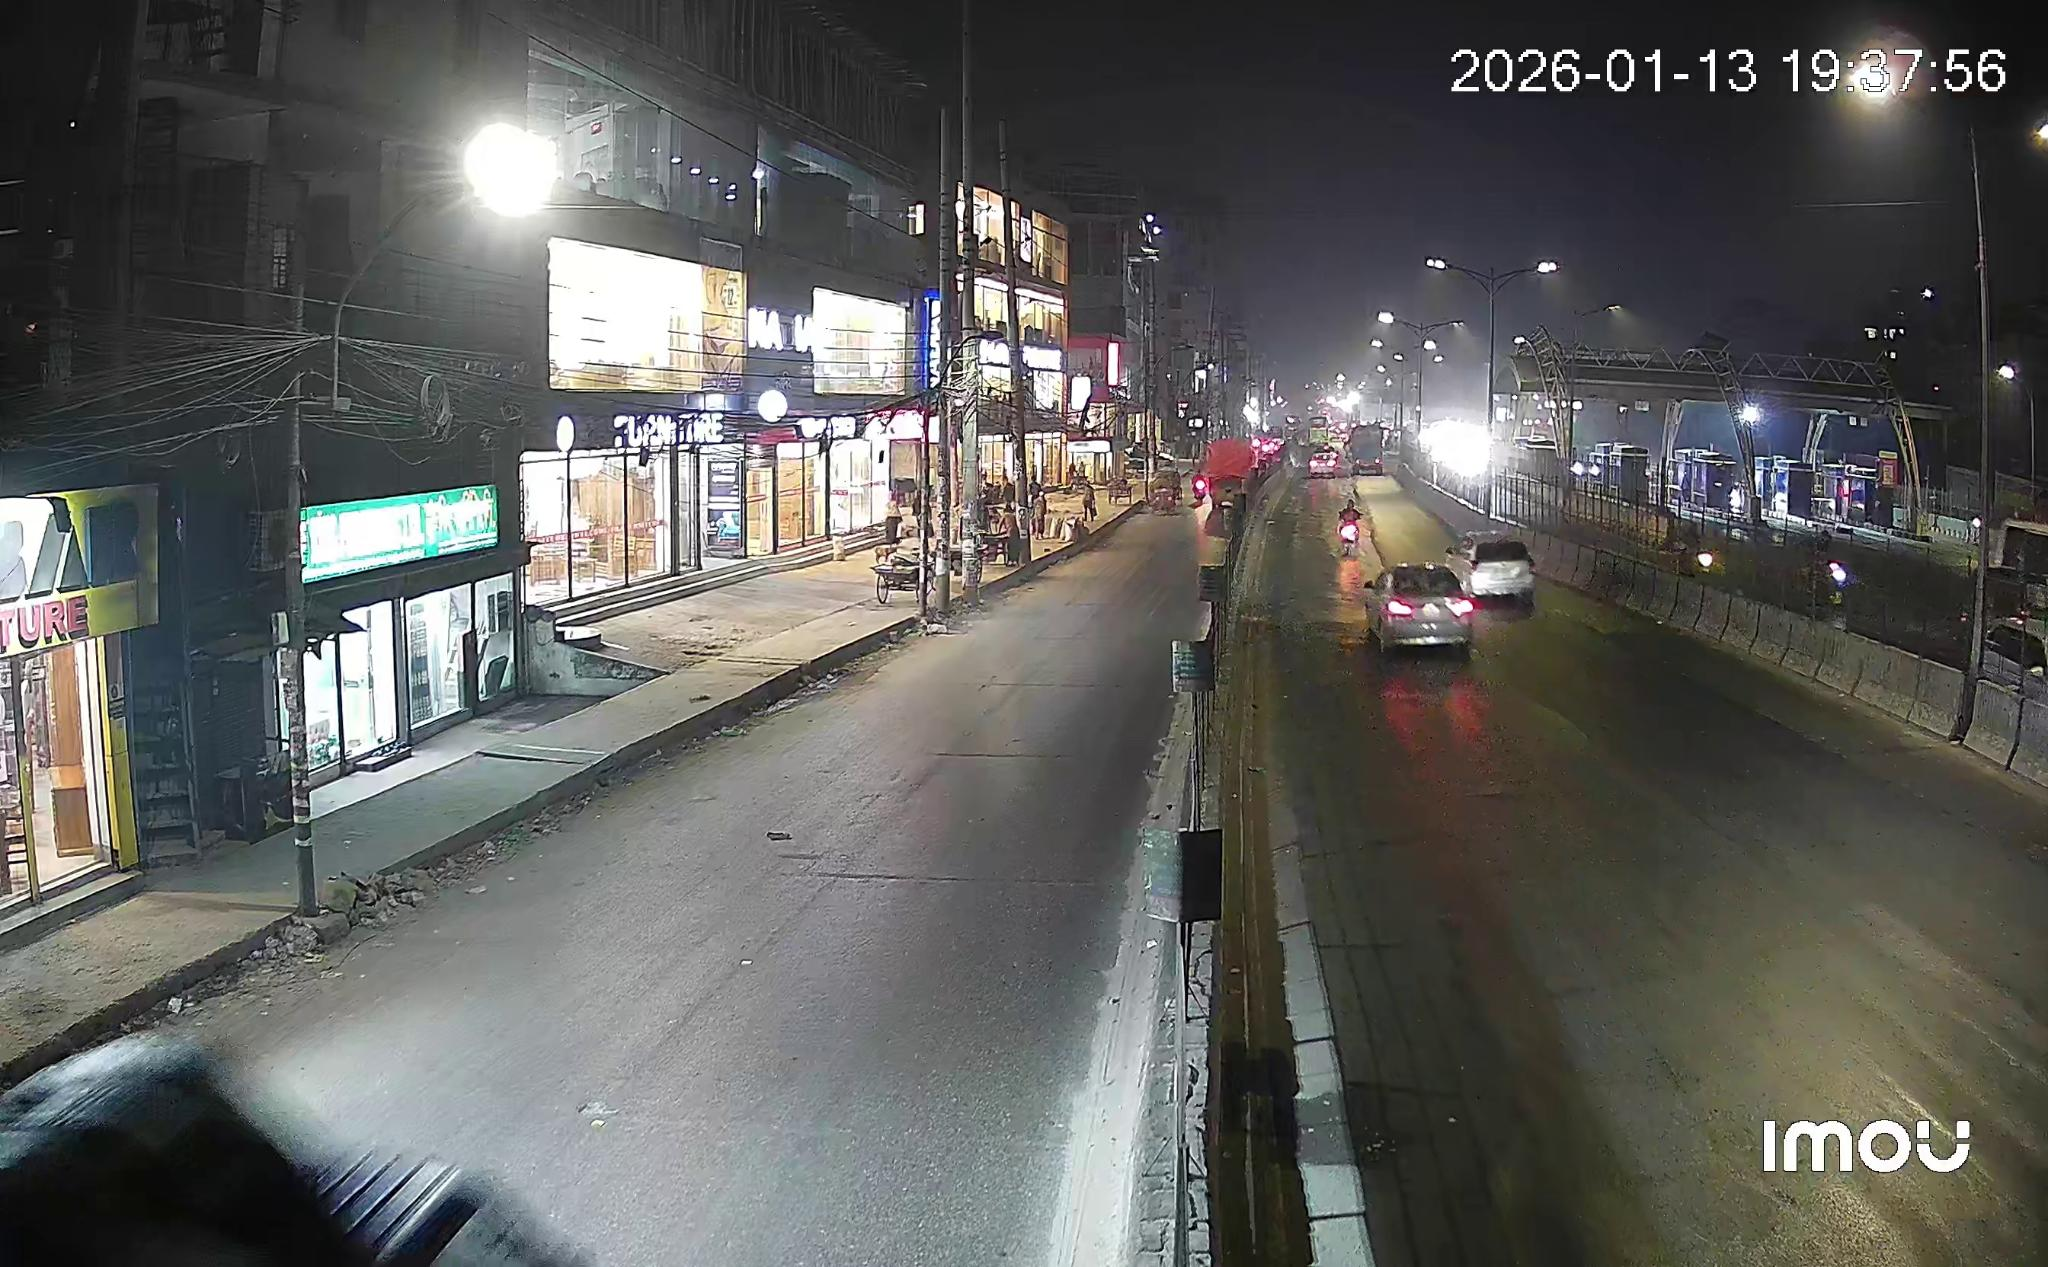Private-Sedan Car: (1366, 538, 1533, 654)
